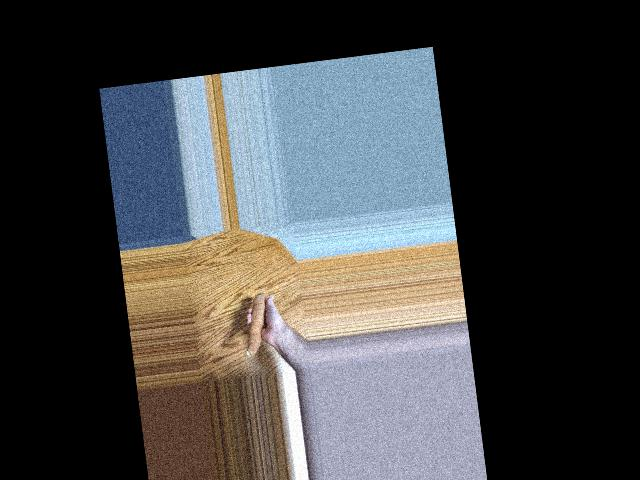sweet_potato: (248, 291, 272, 356)
